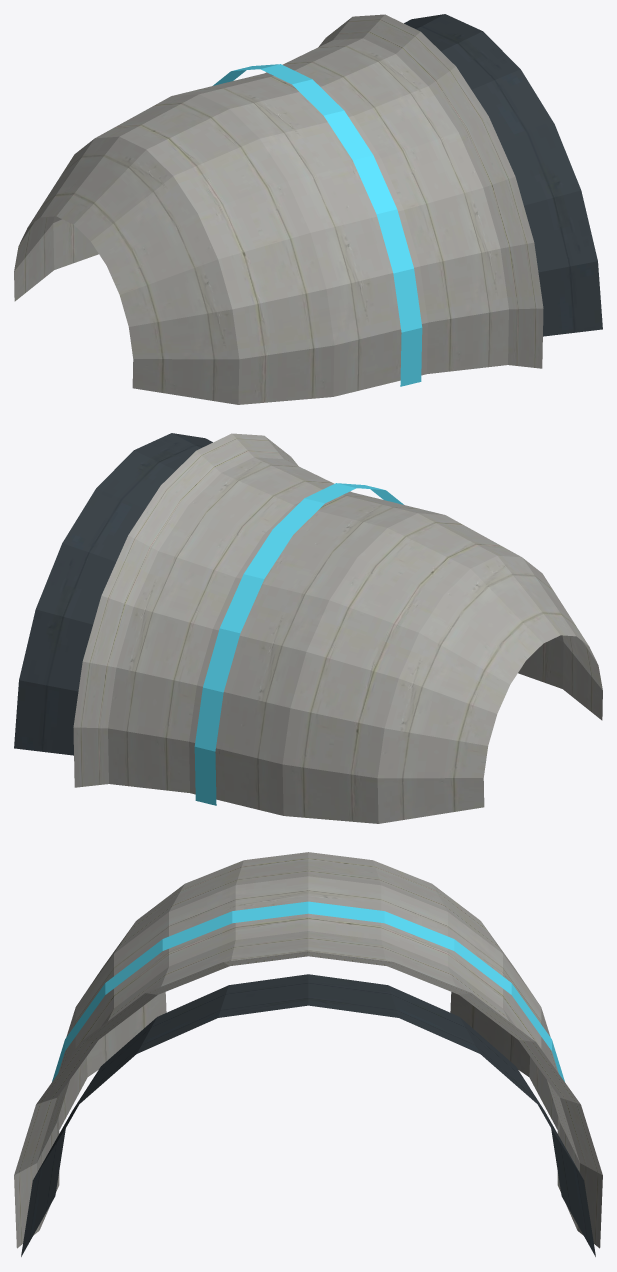
The model's file is eq_future_2_shoulder.glb.
3 renders of one model, top to bottom at view 1: azimuth 30°, elevation 25°; view 2: azimuth 150°, elevation 25°; view 3: azimuth 270°, elevation 25°, orthographic. The views are drawn at different scales.
Visible parts, largest first — view 1: eq_future_2_shoulder; view 2: eq_future_2_shoulder; view 3: eq_future_2_shoulder.
Part boxes in pixels (x1=…): eq_future_2_shoulder: x1=14, y1=14, x2=602, y2=404; eq_future_2_shoulder: x1=14, y1=433, x2=602, y2=823; eq_future_2_shoulder: x1=14, y1=852, x2=602, y2=1256.
Size of the model in its own units: 0.2049 by 0.1186 by 0.2129.
3 materials, 2 textured.
